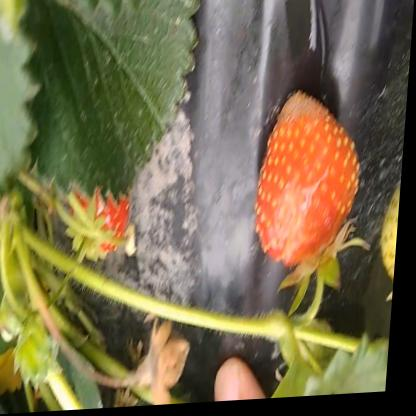ripe: (257, 93, 369, 269), (67, 162, 138, 264)
